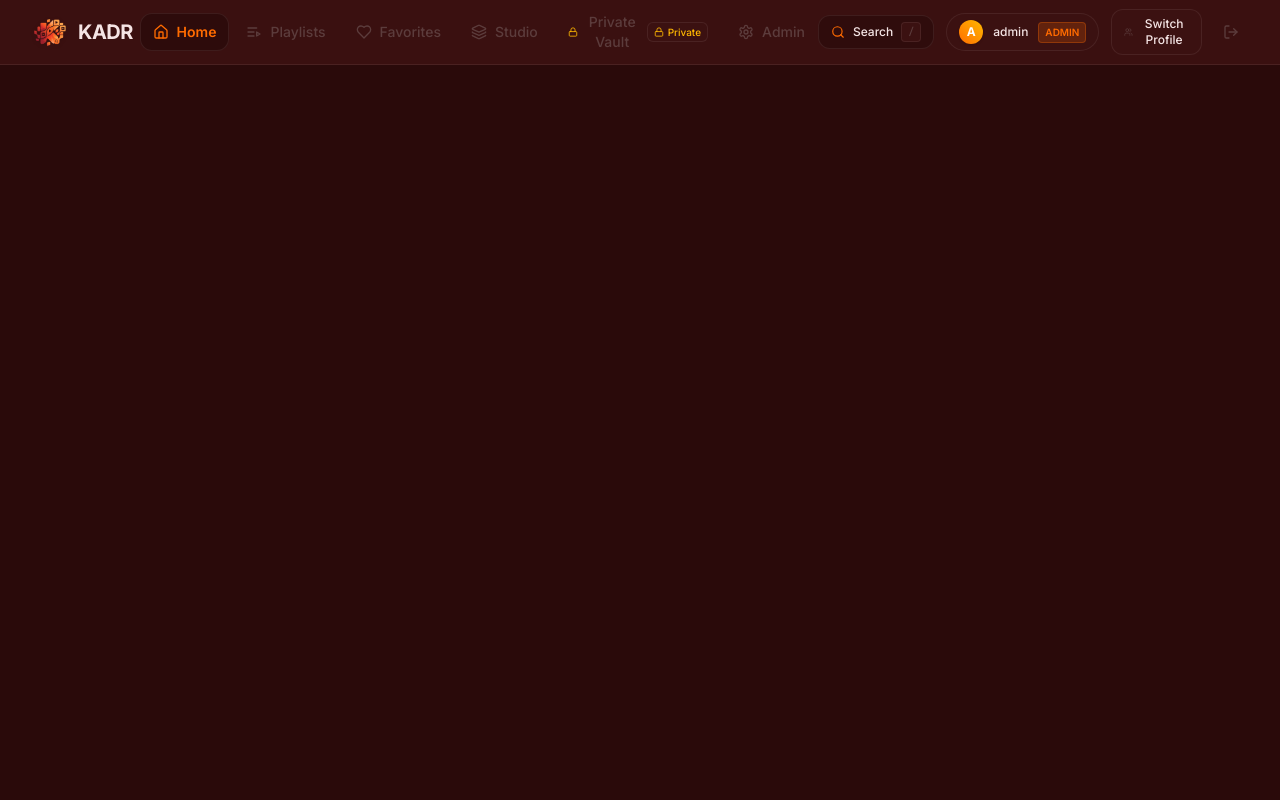
Test: App Shell › triggers PIN keypad prompt when clicking a locked private library
Click the button "Private Vault Private" at (638, 32), box [555,3,721,61]
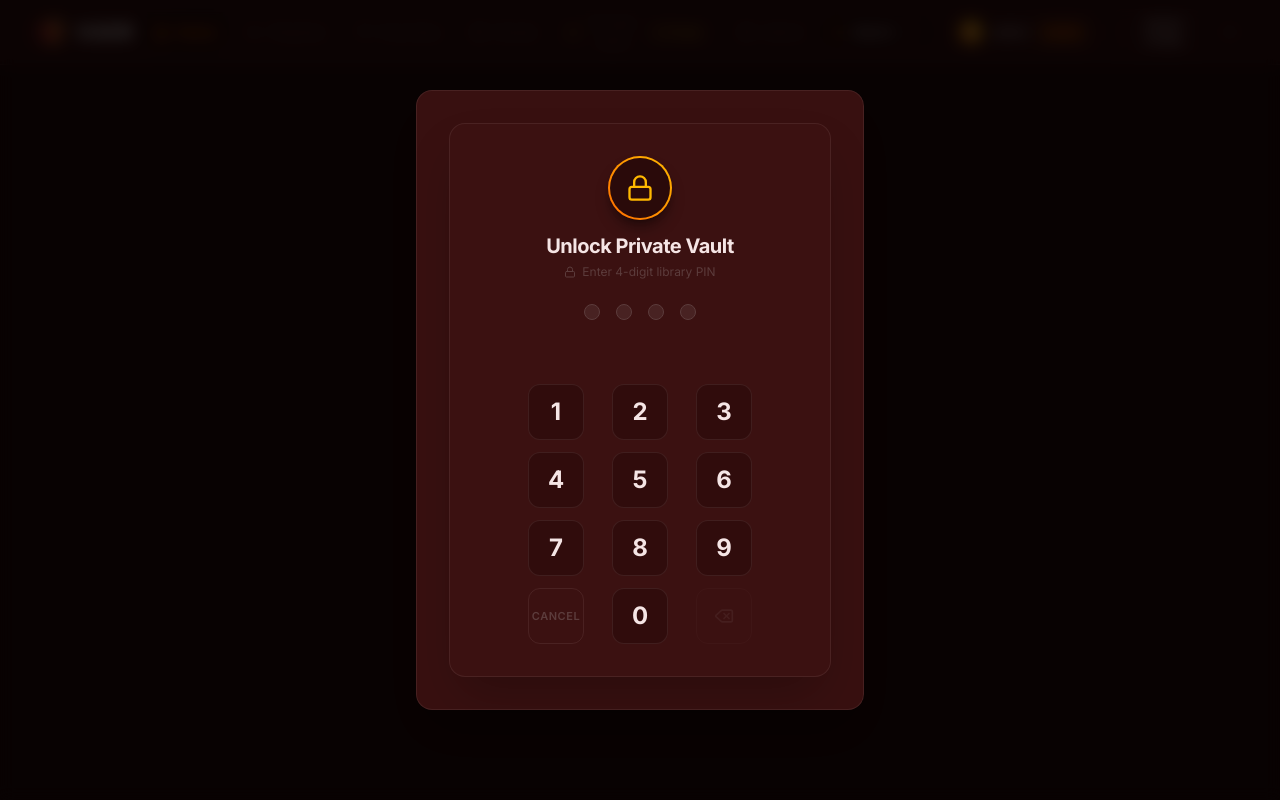
Now the heading "Unlock Private Vault" is shown, box [546,232,734,260]
